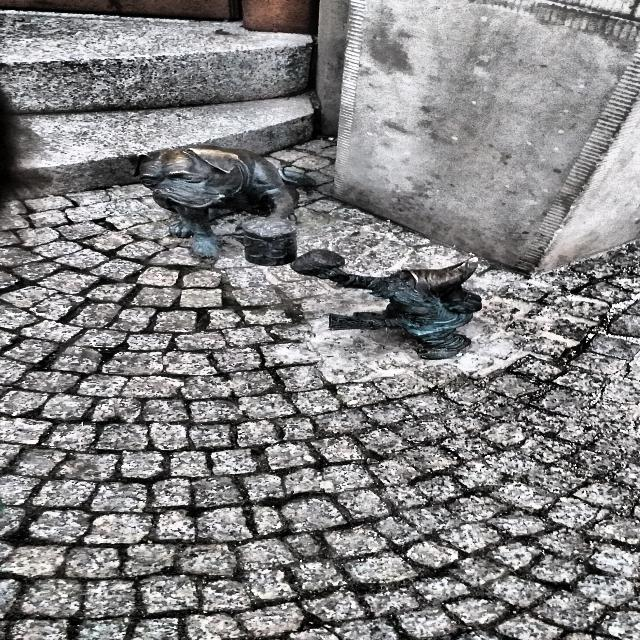Piwozlopek_ i_Piesel_Piwosz: (136, 145, 481, 359)
